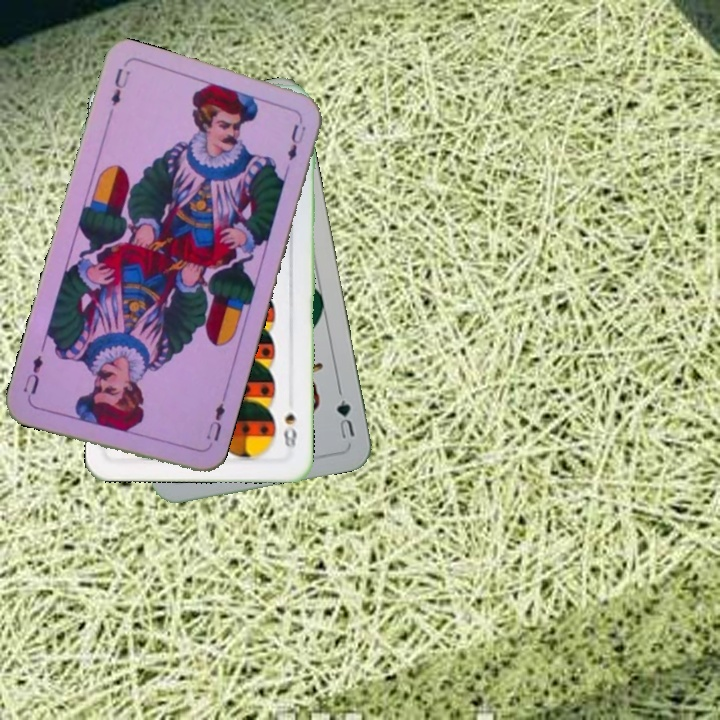EU: (201, 394, 228, 452), (106, 64, 133, 109)
GU: (332, 395, 358, 442)
S8: (279, 408, 299, 450)
